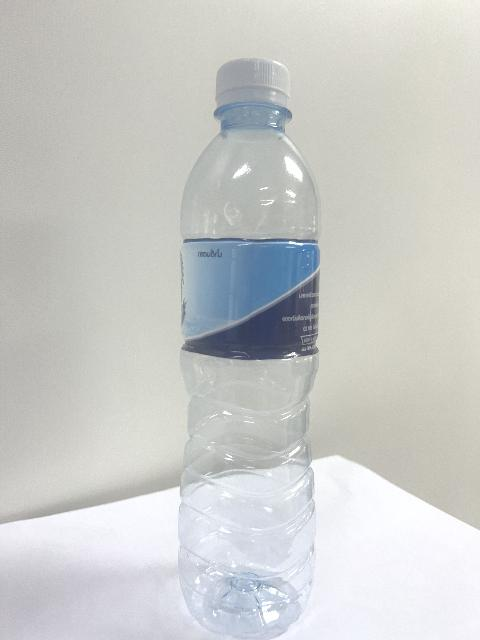bottle: (178, 59, 319, 638)
